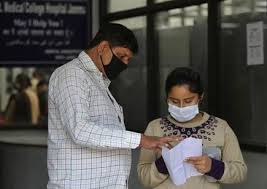mask: (95, 22, 138, 79), (165, 68, 202, 122)
